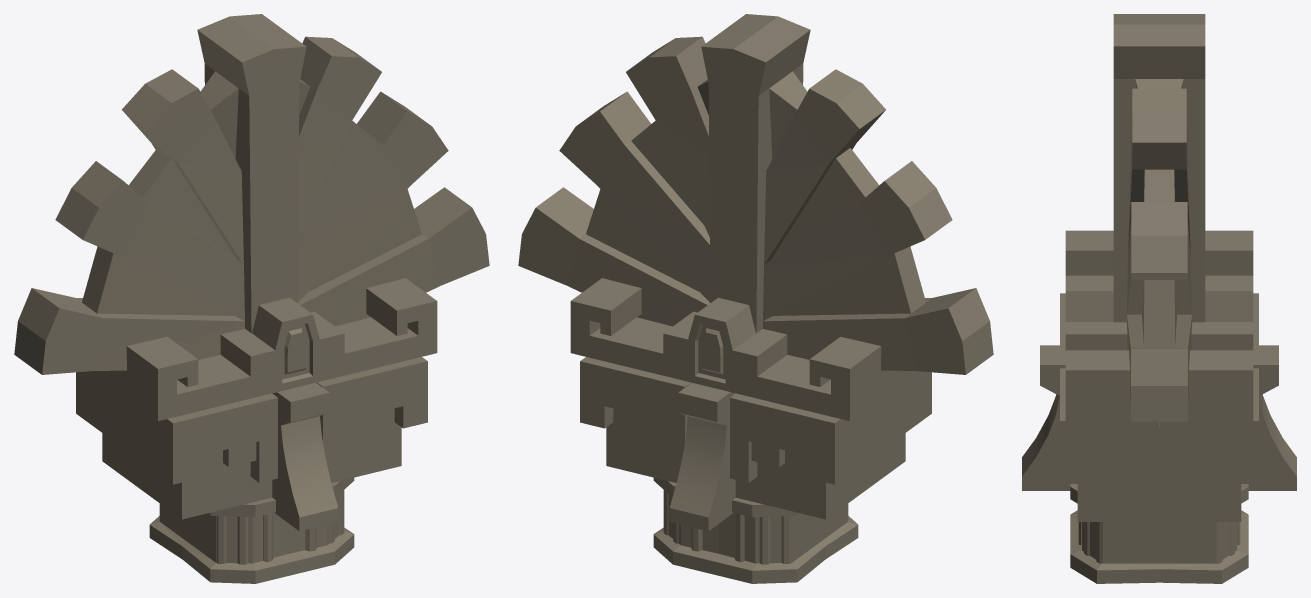
The model's file is TempleStatue_B.fbx.
The picture shows the model from 3 angles, left to right: view 1: azimuth 30°, elevation 25°; view 2: azimuth 150°, elevation 25°; view 3: azimuth 270°, elevation 25°; orthographic projection. The views are drawn at different scales.
Visible parts, largest first — view 1: TempleStatue_B; view 2: TempleStatue_B; view 3: TempleStatue_B.
Boxes of the visible parts, bbox=[...] form: TempleStatue_B: bbox=[14, 14, 489, 583]; TempleStatue_B: bbox=[518, 14, 993, 583]; TempleStatue_B: bbox=[1022, 14, 1296, 583].
Size of the model in its own units: 409 by 445 by 212.
